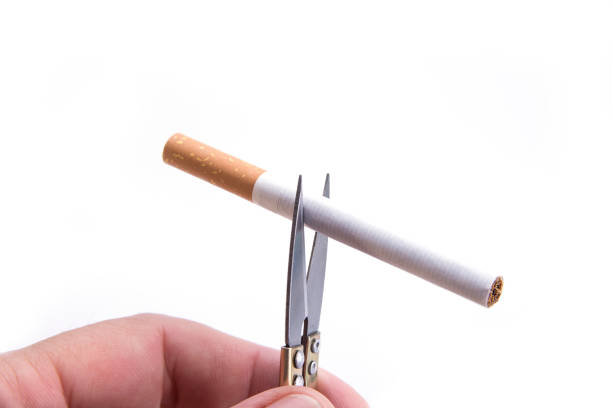cigarette: (160, 129, 505, 310)
